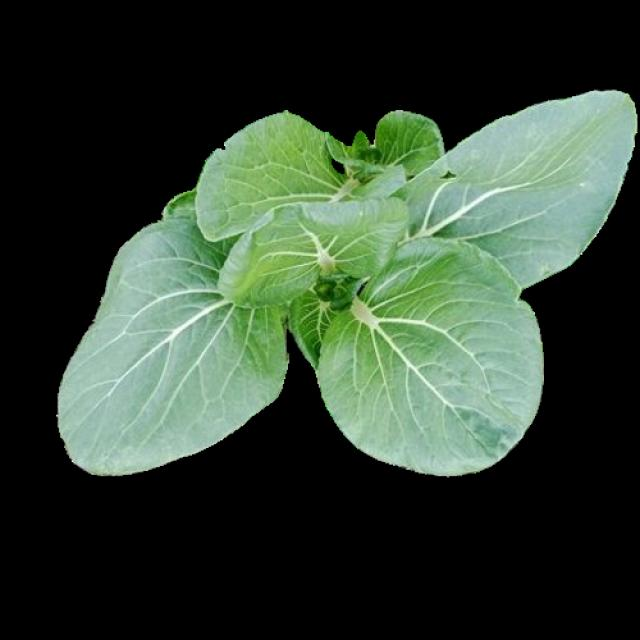mature: (60, 92, 636, 474)
unhealthy: (196, 110, 406, 245), (335, 91, 494, 187)
